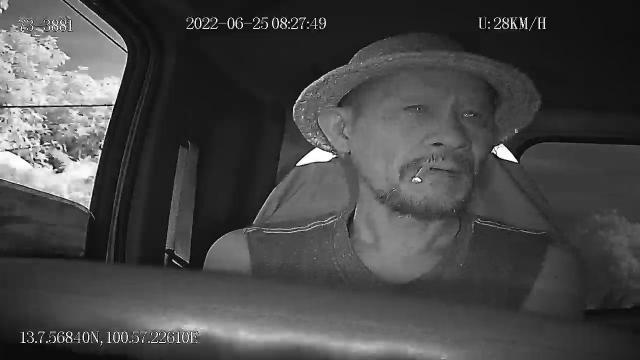SafeDriving: (398, 96, 434, 118), (453, 104, 484, 124)
Smoking: (411, 162, 435, 186)
